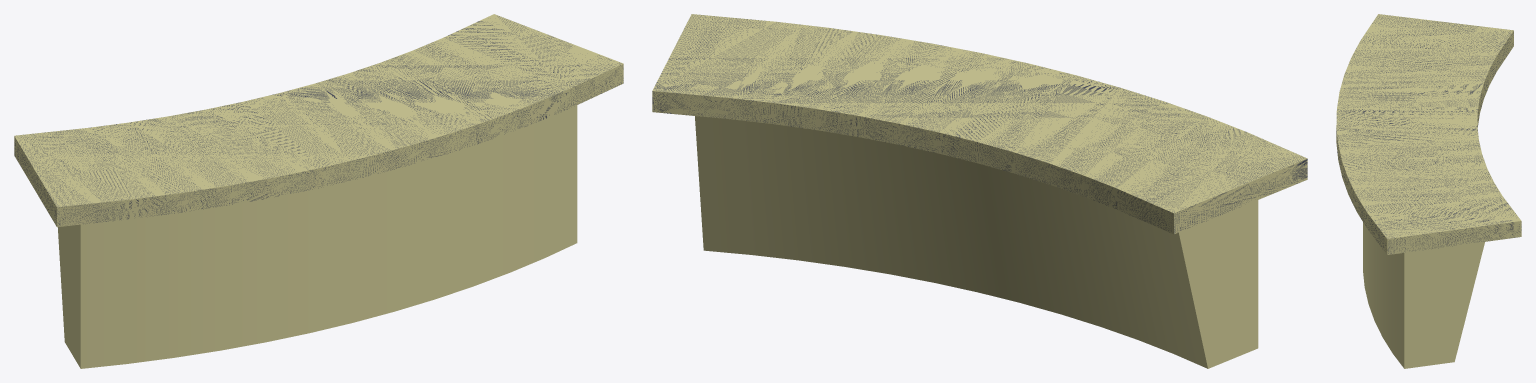
3 views of the same model, side by side, from view 1: azimuth 30°, elevation 25°; view 2: azimuth 150°, elevation 25°; view 3: azimuth 270°, elevation 25° (orthographic). The views are drawn at different scales.
Visible parts, largest first — view 1: mesh1_mesh1-geometry; view 2: mesh1_mesh1-geometry; view 3: mesh1_mesh1-geometry.
Boxes of the visible parts, x1,y1,x2,y2 form: mesh1_mesh1-geometry: (14, 14, 623, 368); mesh1_mesh1-geometry: (652, 14, 1307, 368); mesh1_mesh1-geometry: (1336, 14, 1521, 368).
Bounding box in the file's own units: 0.9093 × 0.2709 × 0.3159.
